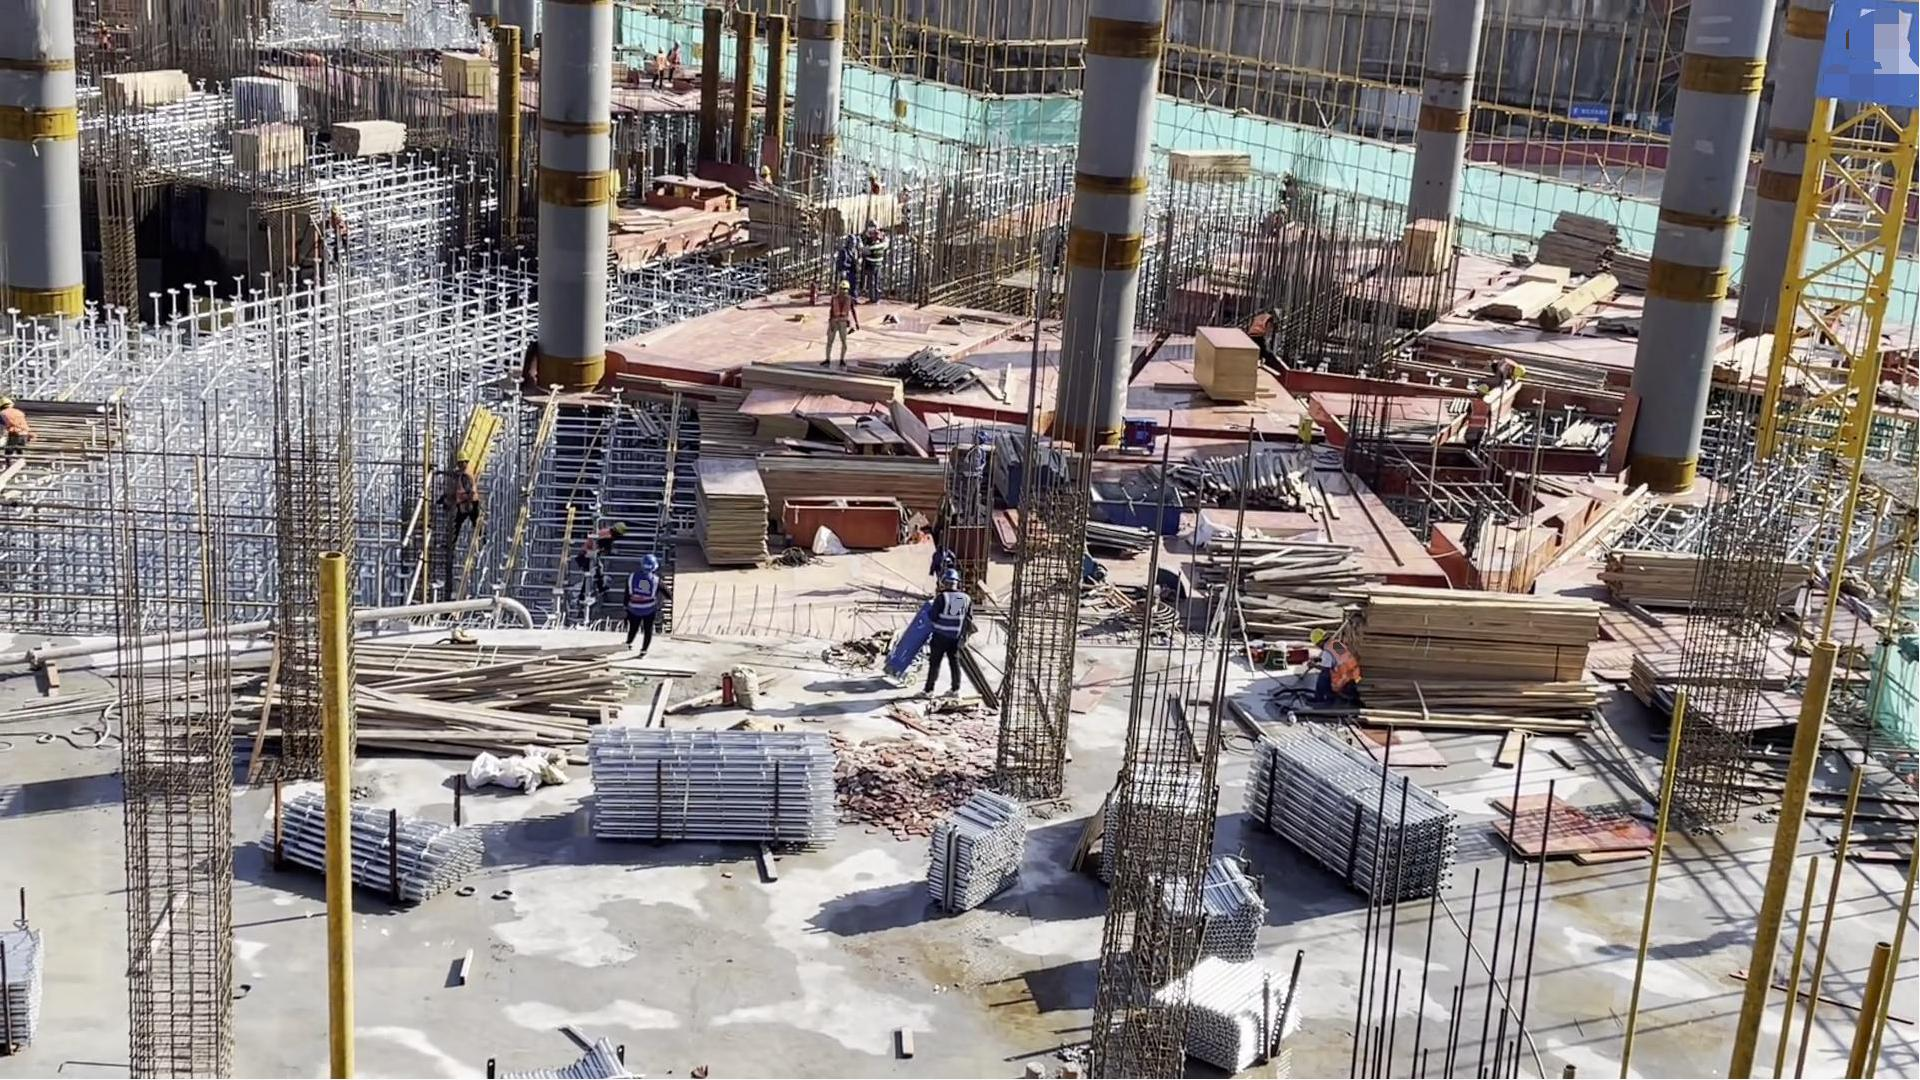board: (1492, 785, 1665, 874), (1631, 647, 1803, 735), (693, 458, 770, 570), (1188, 324, 1262, 408), (230, 120, 305, 176), (746, 388, 808, 444), (442, 49, 490, 102)
cutter: (643, 173, 735, 219), (831, 411, 903, 458)
ebox: (1294, 411, 1314, 447)
helmet: (938, 568, 961, 583), (1308, 627, 1326, 644), (639, 552, 657, 570), (1513, 364, 1526, 379), (1476, 384, 1489, 397), (836, 278, 850, 290), (869, 230, 882, 241), (845, 234, 856, 245)
hopper: (1087, 467, 1181, 538)
person: (921, 568, 972, 694), (624, 553, 672, 659), (1305, 627, 1363, 709), (576, 521, 626, 607), (451, 450, 482, 547), (825, 277, 856, 370), (1454, 382, 1492, 453), (1, 395, 34, 467), (861, 232, 887, 304), (1247, 306, 1283, 357), (831, 231, 859, 280), (329, 206, 350, 266), (1489, 356, 1527, 389), (650, 45, 666, 89), (668, 39, 681, 82)
scaffold: (1244, 723, 1453, 906), (585, 727, 837, 850), (264, 795, 488, 905), (1149, 956, 1305, 1072), (1129, 855, 1265, 974), (930, 788, 1022, 913), (481, 1037, 635, 1080), (1, 920, 43, 1058)
vest: (930, 594, 967, 647), (1321, 642, 1358, 694), (628, 573, 655, 615), (831, 292, 851, 324), (1466, 400, 1487, 428), (834, 248, 857, 271), (862, 245, 884, 271), (1495, 357, 1513, 378)
wood: (1351, 579, 1590, 728), (355, 645, 625, 756), (1602, 541, 1819, 636), (1199, 532, 1376, 642), (1162, 451, 1335, 522), (1471, 269, 1619, 332), (742, 360, 902, 402), (887, 347, 985, 395), (811, 191, 910, 236), (103, 68, 194, 111), (1167, 150, 1256, 186), (334, 117, 408, 160)
